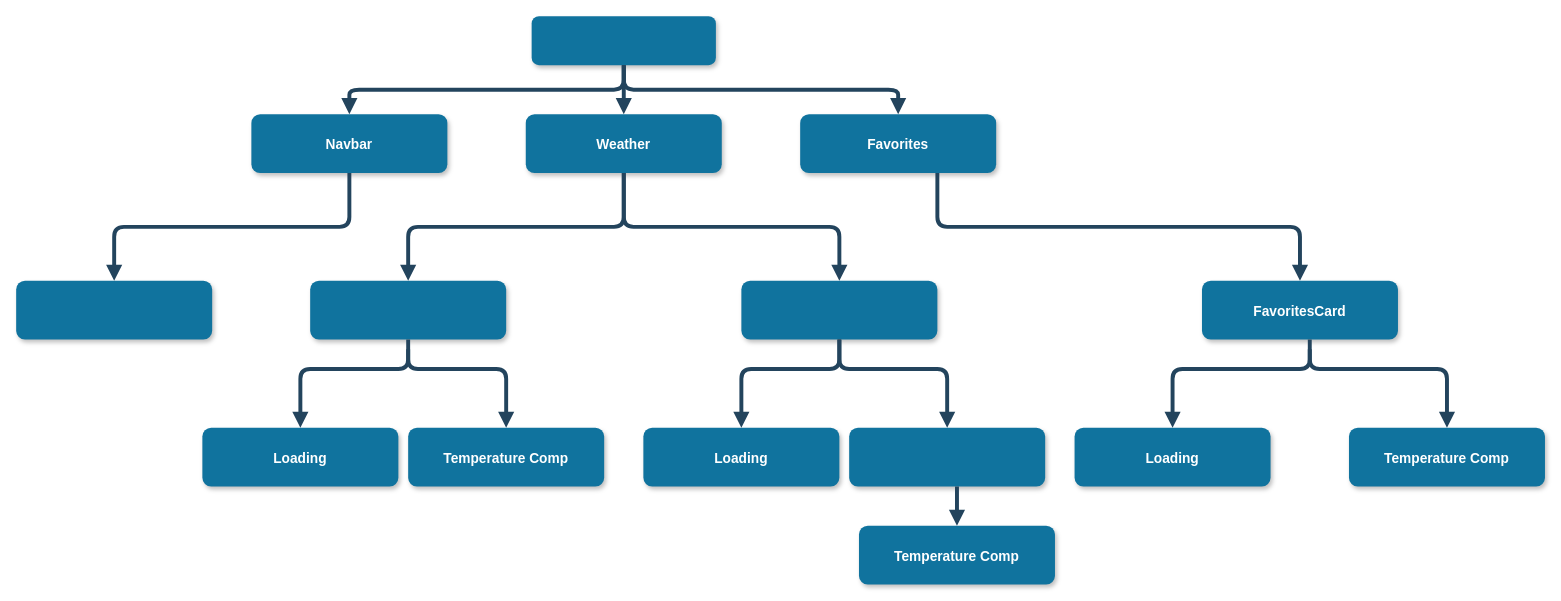
The diagram is 1561 pixels wide and 601 high, and some of its shapes have lost their labels. Here are the shapes that lost their labels. From the top down, the centre of each, then its label:
point (624, 42): App
point (115, 311): Search
point (409, 311): CurrentWeather
point (840, 311): Forecast
point (948, 458): WeatherCard
